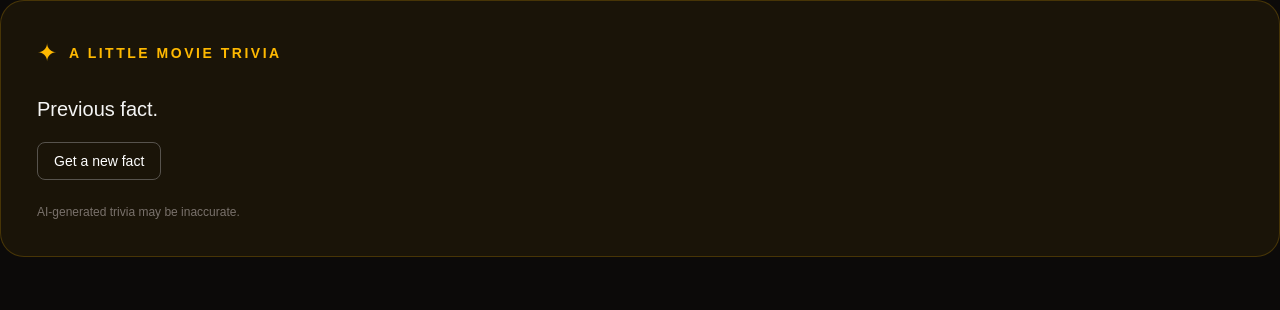
Scenario: keeps the previous fact visible when a requested refresh fails
The width and height of the screenshot is (1280, 310).
Check: the text "Previous fact." is shown, box [37,98,158,120]
Click the button "Get a new fact" at (99, 160), box [37,142,161,180]
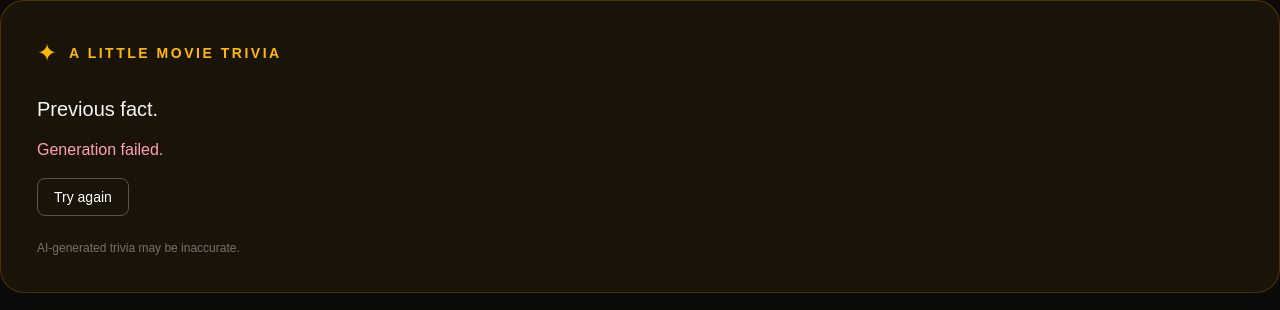
Check: the text "Previous fact." is shown, box [37,98,158,120]
Check: the text "Generation failed." is shown, box [37,140,163,158]
